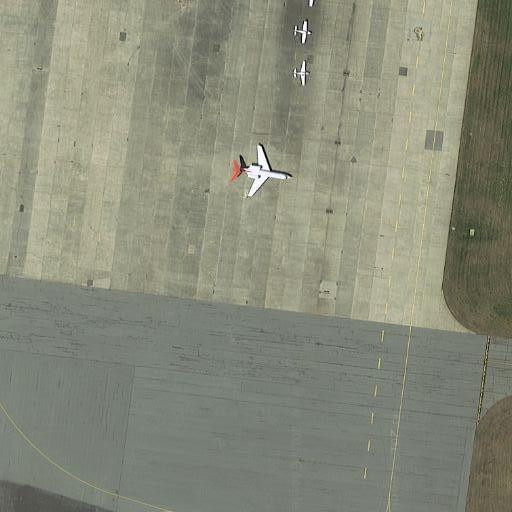plane: (230, 139, 293, 203)
